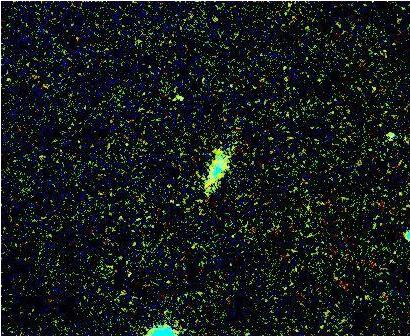star: (161, 77, 191, 107)
